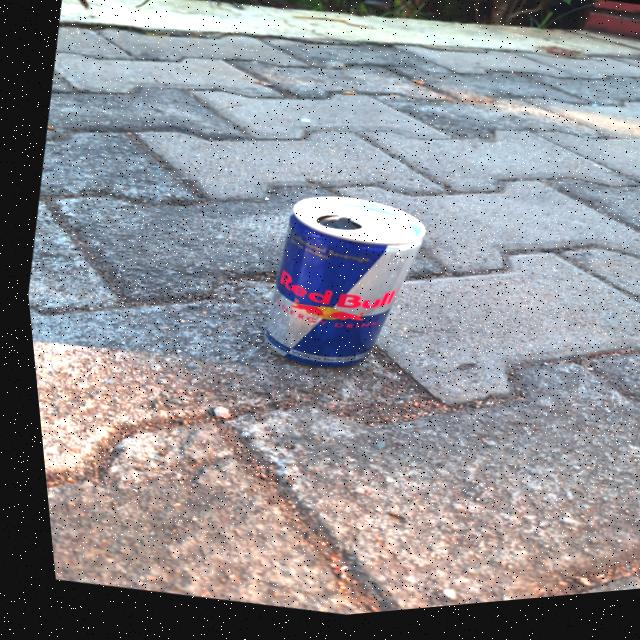Redbul: (249, 185, 424, 382)
